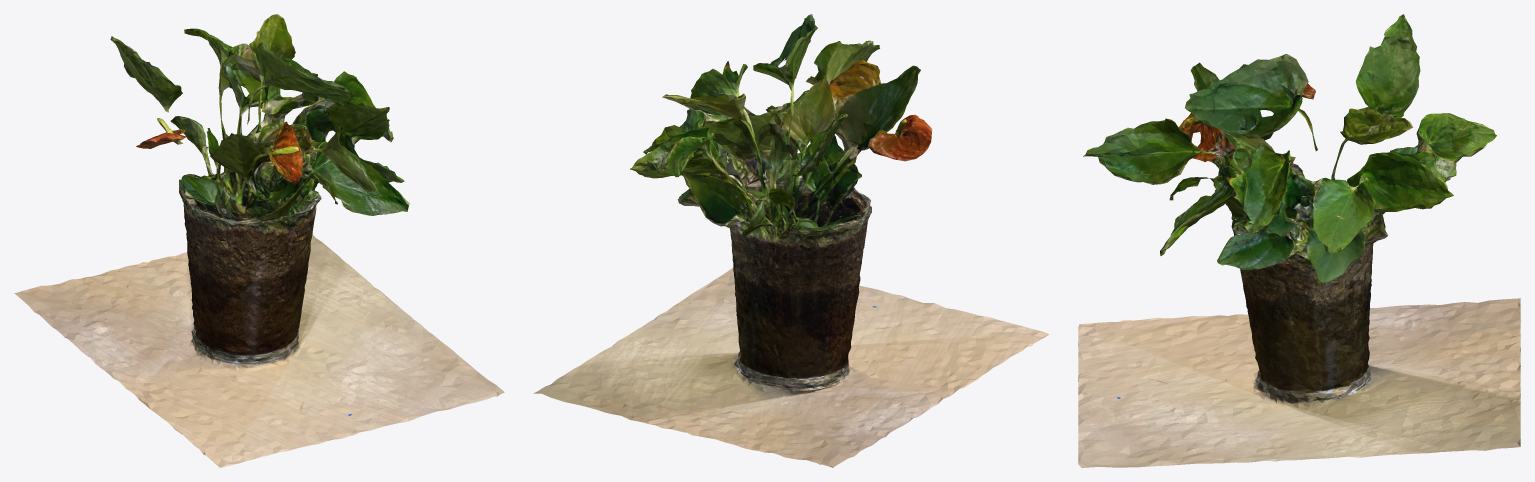
File: anthurium.glb
3 views of the same model, side by side, from view 1: azimuth 30°, elevation 25°; view 2: azimuth 150°, elevation 25°; view 3: azimuth 270°, elevation 25° (orthographic). The views are drawn at different scales.
Size of the model in its own units: 0.3256 by 0.349 by 0.4077.
Materials: 1 (1 with a texture image).
